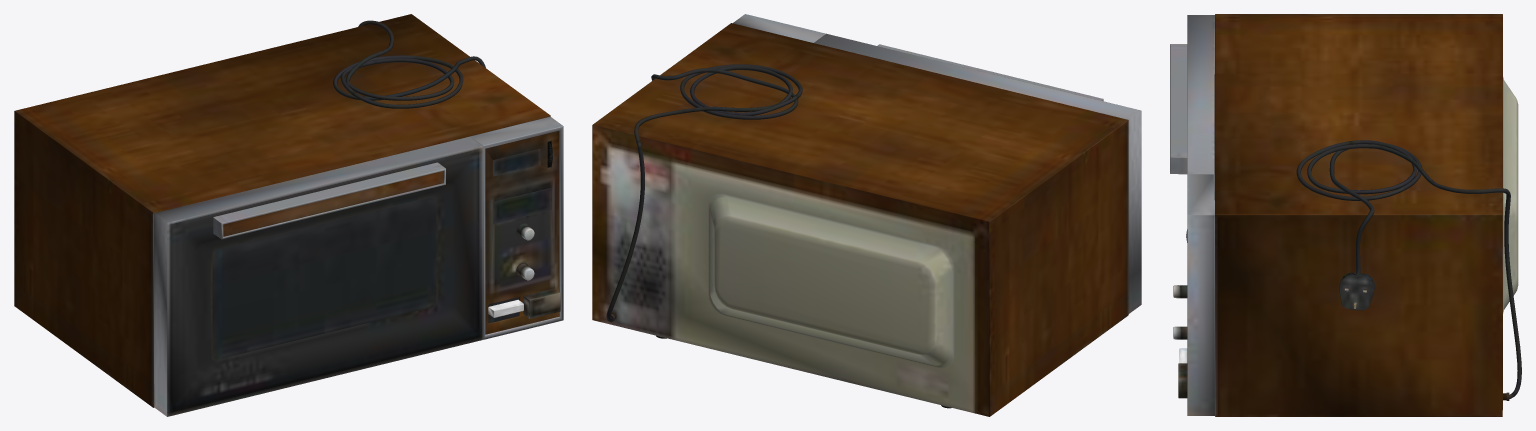
The model's file is microwave-vintage.lite.1dceb9d9.glb.
3 views of the same model, side by side, from view 1: azimuth 30°, elevation 25°; view 2: azimuth 150°, elevation 25°; view 3: azimuth 270°, elevation 25° (orthographic). The views are drawn at different scales.
Visible parts, largest first — view 1: model; view 2: model; view 3: model.
Part boxes in pixels (x1,y1,x2,y2): model: (14, 14, 563, 416); model: (592, 14, 1141, 416); model: (1170, 14, 1521, 416).
Bounding box in the file's own units: 1.07 × 0.5258 × 0.7456.
2 materials, 2 textured.
